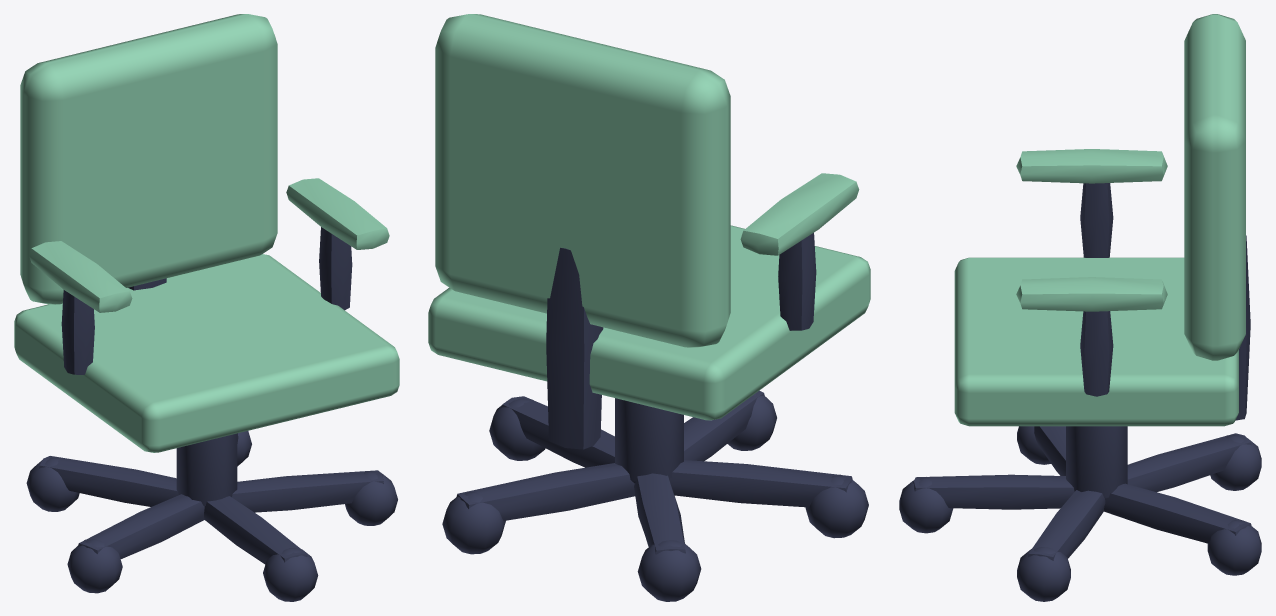
Rendered from office-chair.glb.
3 renders of one model, left to right at view 1: azimuth 30°, elevation 25°; view 2: azimuth 150°, elevation 25°; view 3: azimuth 270°, elevation 25°, orthographic. The views are drawn at different scales.
Parts seen in each view (by area): view 1: part (×14), mesh-back; view 2: part (×15), mesh-back; view 3: part (×17), mesh-back.
Boxes of the visible parts, x1=… form: part (×14): x1=14, y1=178, x2=399, y2=601; mesh-back: x1=20, y1=14, x2=277, y2=304; part (×15): x1=428, y1=173, x2=870, y2=601; mesh-back: x1=435, y1=14, x2=730, y2=347; part (×17): x1=899, y1=149, x2=1261, y2=601; mesh-back: x1=1184, y1=14, x2=1245, y2=360.
Bounding box in the file's own units: 0.8048 × 1.08 × 0.7654.
Materials: 1 (1 with a texture image).
